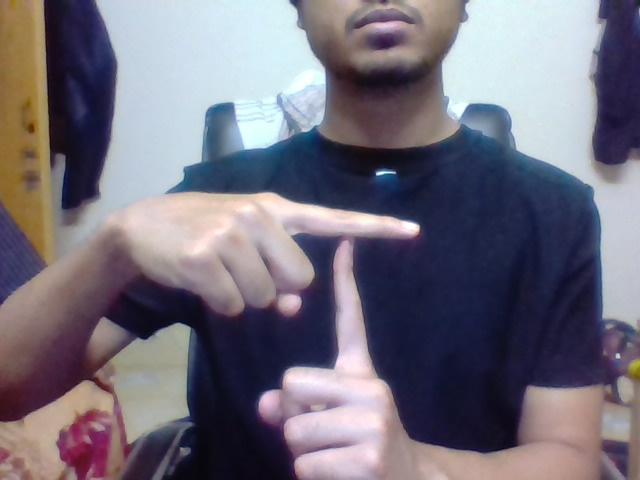T: (316, 191, 426, 337)
